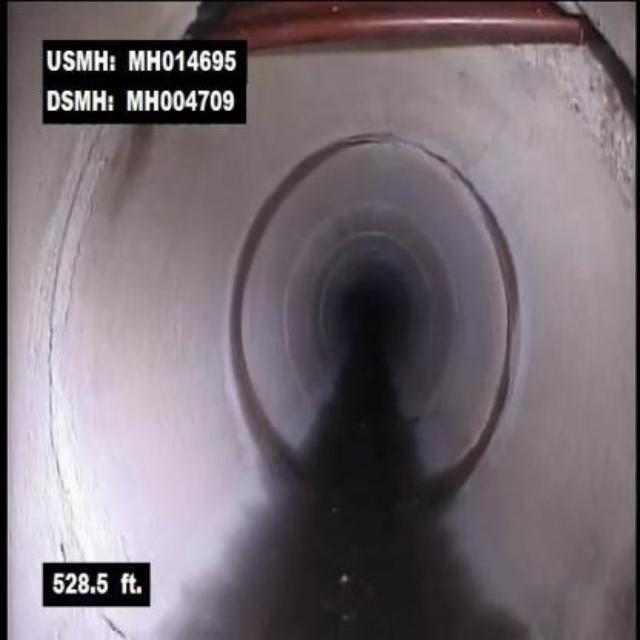Utility intrusion: (248, 0, 602, 74)
